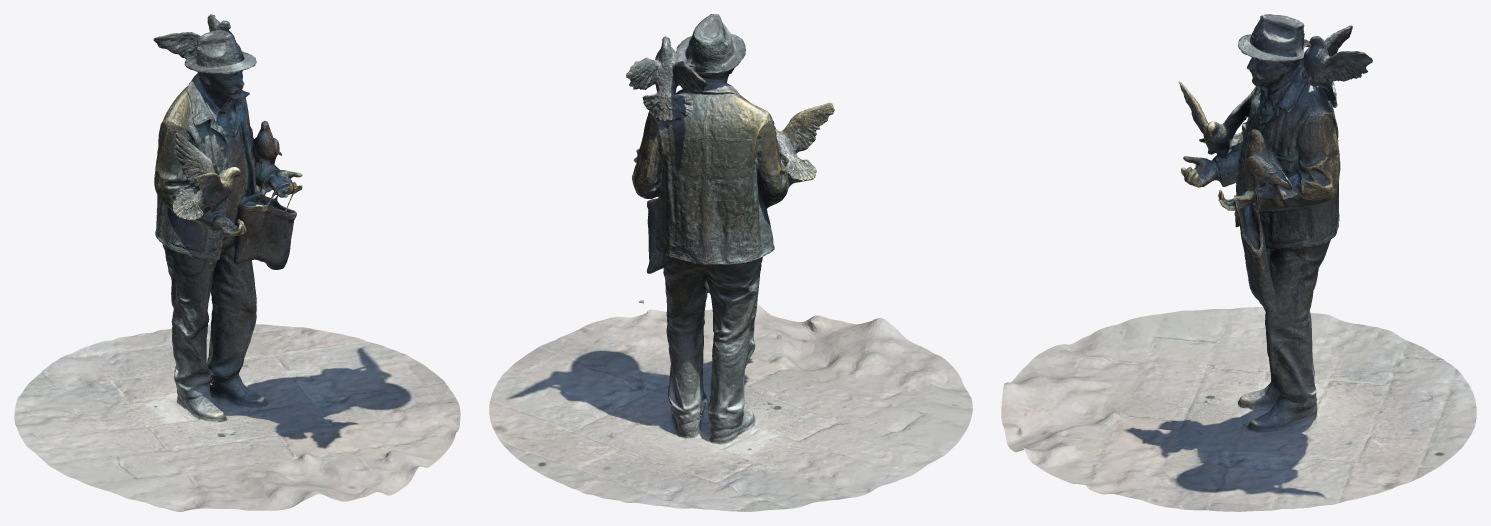
Rendered from senior_palomas.glb.
3 renders of one model, left to right at view 1: azimuth 30°, elevation 25°; view 2: azimuth 150°, elevation 25°; view 3: azimuth 270°, elevation 25°, orthographic. The views are drawn at different scales.
Parts seen in each view (by area): view 1: Mesh_0; view 2: Mesh_0; view 3: Mesh_0.
Part boxes in pixels (left/top/right/bottom): Mesh_0: left=14, top=14, right=460, bottom=511; Mesh_0: left=489, top=14, right=972, bottom=511; Mesh_0: left=1001, top=14, right=1476, bottom=511.
Bounding box in the file's own units: 2.15 × 2.03 × 2.15.
1 material, 1 textured.
